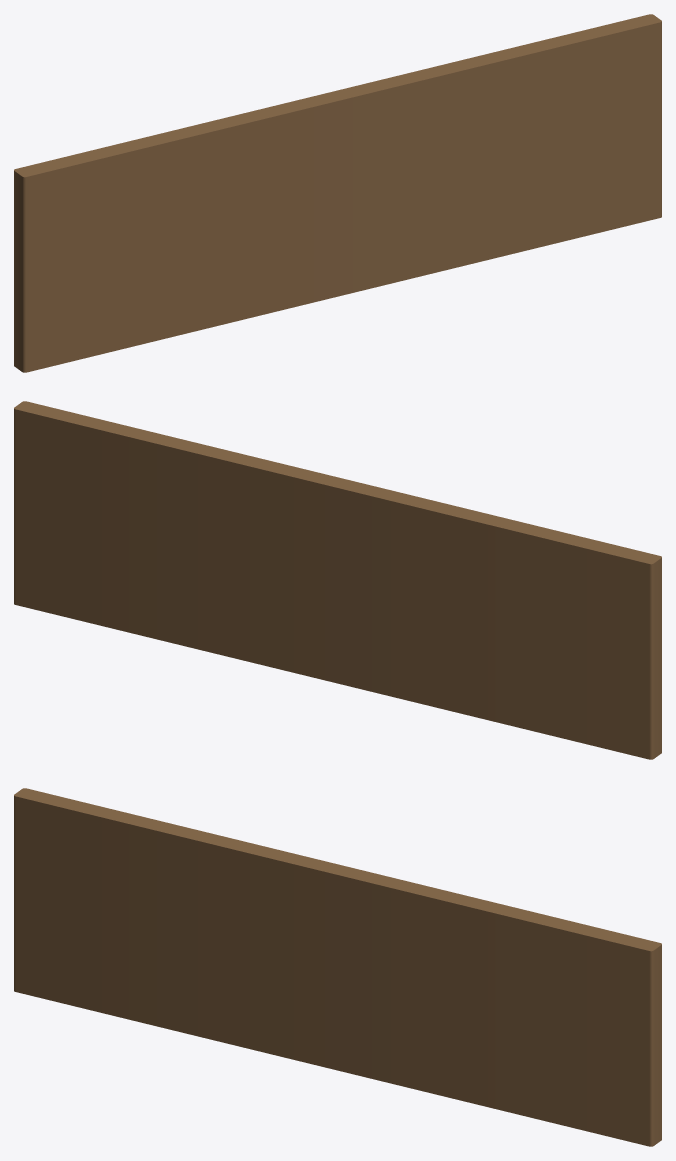
File: jp_bedroom_desk_drawer_face.glb
3 views of the same model, one above another, from view 1: azimuth 30°, elevation 25°; view 2: azimuth 150°, elevation 25°; view 3: azimuth 330°, elevation 25° (orthographic).
Parts seen in each view (by area): view 1: plank; view 2: plank; view 3: plank.
Part boxes in pixels (box(x1,y1,x2,y2)): plank: box(14, 14, 661, 372); plank: box(14, 401, 661, 759); plank: box(14, 788, 661, 1146).
Size of the model in its own units: 0.472 by 0.138 by 0.014.
